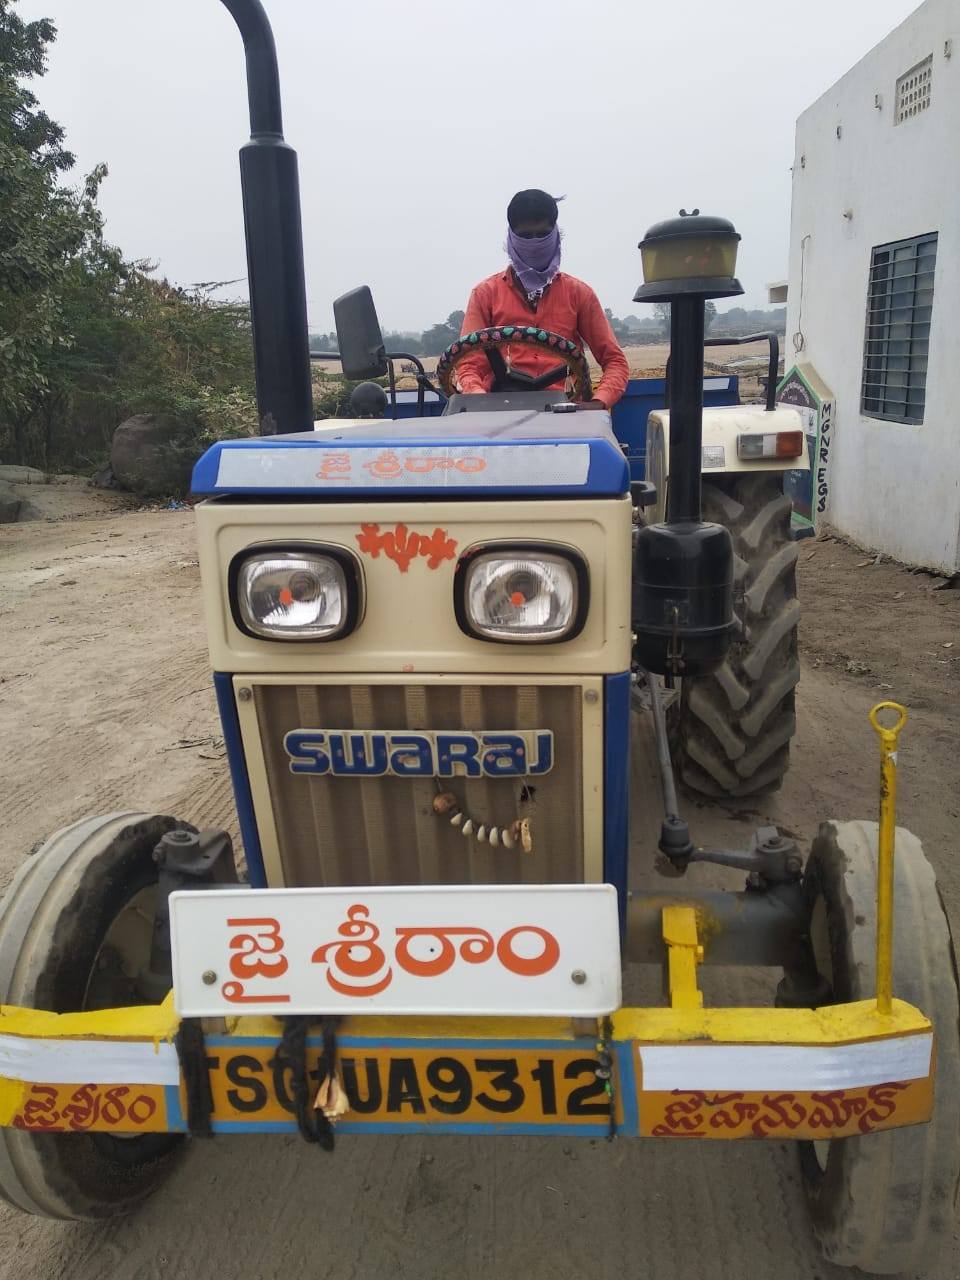license_plate: (190, 1045, 622, 1145)
